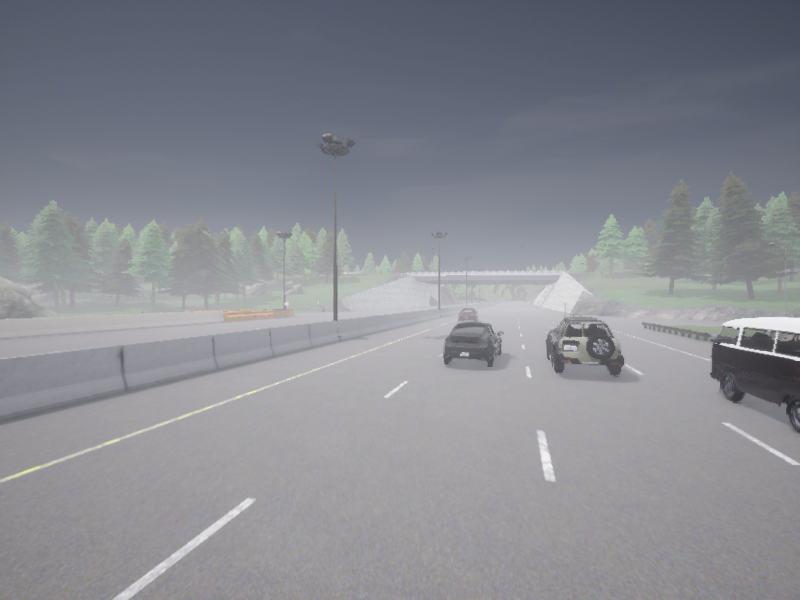vehicle: (445, 322, 503, 354), (716, 346, 780, 364), (459, 309, 477, 318)
